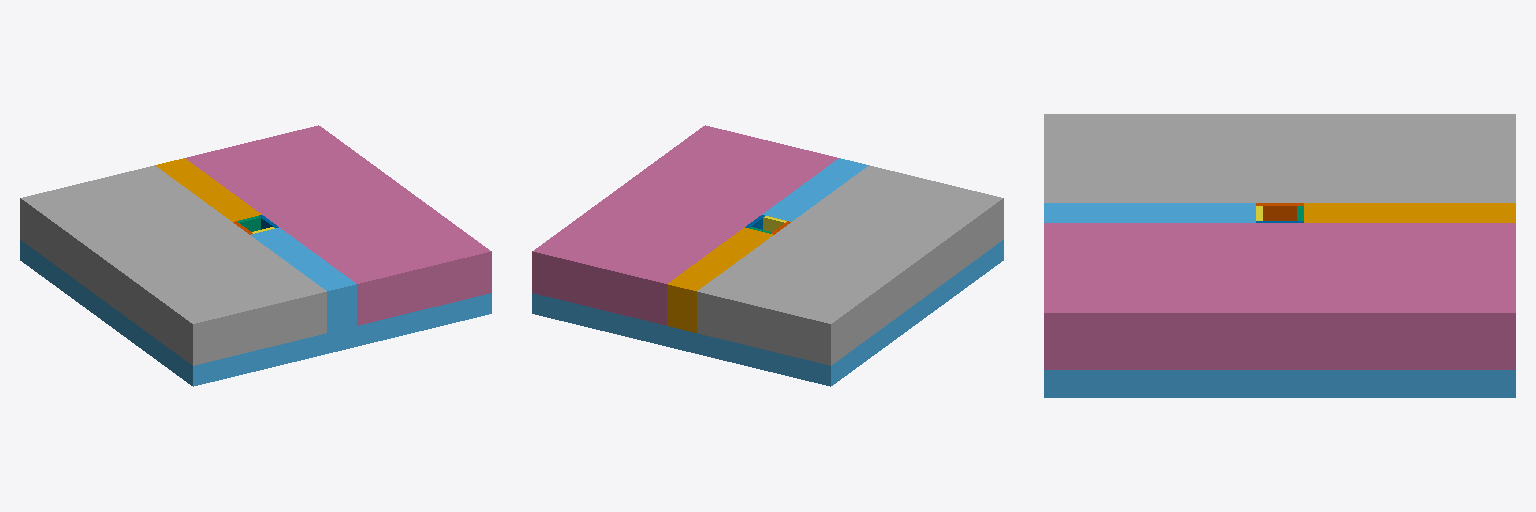
The robot description file, URDF, robot "cube_skeleton":
<?xml version="1.0"?>
<robot name="cube_skeleton">
    <link name="world"/>
    <link name="base_link">
        <inertial>
            <mass value="0.01" />
            <origin xyz="0.000 0 0" rpy="0 0 0" />
            <inertia ixx="1.0" ixy="0" ixz="0" iyy="1.0" iyz="0" izz="1.0" />
        </inertial>
        <visual>
            <origin xyz="0 0 0" rpy="0 0 0" />
            <geometry>
                <mesh filename="./base.obj"/>
            </geometry>
        </visual>
        <collision group="default">
            <origin xyz="0.00 0 0" rpy="0 -0 0" />
            <geometry>
                <mesh filename="./base.obj"/>
            </geometry>
        </collision>
    </link>
    <joint name="base_joint" type="fixed">
        <origin xyz="0 0.0 0.0" rpy="0 0 0" />
        <parent link="world" />
        <child link="base_link" />
    </joint>
    <link name="left">
        <inertial>
            <mass value="0.01" />
            <origin xyz="0.000 0 0" rpy="0 0 0" />
            <inertia ixx="1.0" ixy="0" ixz="0" iyy="1.0" iyz="0" izz="1.0" />
        </inertial>
        <visual>
            <origin xyz="0 0 0" rpy="0 0 0" />
            <geometry>
                <mesh filename="./cube.obj"/>
            </geometry>
        </visual>
        <collision group="default">
            <origin xyz="0.00 0 0" rpy="0 -0 0" />
            <geometry>
                <mesh filename="./cube.obj"/>
            </geometry>
        </collision>
    </link>
    <joint name="left_joint" type="fixed">
        <origin xyz="0 0.013 0.03" rpy="0 0 0" />
        <parent link="base_link" />
        <child link="left" />
    </joint>
    <link name="right">
        <inertial>
            <mass value="0.01" />
            <origin xyz="0.000 0 0" rpy="0 0 0" />
            <inertia ixx="1.0" ixy="0" ixz="0" iyy="1.0" iyz="0" izz="1.0" />
        </inertial>
        <visual>
            <origin xyz="0 0 0" rpy="0 0 0" />
            <geometry>
                <mesh filename="./cube.obj"/>
            </geometry>
        </visual>
        <collision group="default">
            <origin xyz="0.00 0 0" rpy="0 -0 0" />
            <geometry>
                <mesh filename="./cube.obj"/>
            </geometry>
        </collision>
    </link>
    <joint name="right_joint" type="fixed">
        <origin xyz="0 -0.013 0.03" rpy="0 0 0" />
        <parent link="base_link" />
        <child link="right" />
    </joint>
    <link name="up">
        <inertial>
            <mass value="0.01" />
            <origin xyz="0.000 0 0" rpy="0 0 0" />
            <inertia ixx="1.0" ixy="0" ixz="0" iyy="1.0" iyz="0" izz="1.0" />
        </inertial>
        <visual>
            <origin xyz="0 0 0" rpy="0 0 0" />
            <geometry>
                <mesh filename="./cube1.obj"/>
            </geometry>
        </visual>
        <collision group="default">
            <origin xyz="0.00 0 0" rpy="0 -0 0" />
            <geometry>
                <mesh filename="./cube1.obj"/>
            </geometry>
        </collision>
    </link>
    <joint name="up_joint" type="fixed">
        <origin xyz="0.013 0.0 0.03" rpy="0 0 0" />
        <parent link="base_link" />
        <child link="up" />
    </joint>
    <link name="down">
        <inertial>
            <mass value="0.01" />
            <origin xyz="0.000 0 0" rpy="0 0 0" />
            <inertia ixx="1.0" ixy="0" ixz="0" iyy="1.0" iyz="0" izz="1.0" />
        </inertial>
        <visual>
            <origin xyz="0 0 0" rpy="0 0 0" />
            <geometry>
                <mesh filename="./cube1.obj"/>
            </geometry>
        </visual>
        <collision group="default">
            <origin xyz="0.00 0 0" rpy="0 -0 0" />
            <geometry>
                <mesh filename="./cube1.obj"/>
            </geometry>
        </collision>
    </link>
    <joint name="down_joint" type="fixed">
        <origin xyz="-0.013 0.0 0.03" rpy="0 0 0" />
        <parent link="base_link" />
        <child link="down" />
    </joint>
     <link name="base_up">
        <inertial>
            <mass value="0.01" />
            <origin xyz="0.000 0 0" rpy="0 0 0" />
            <inertia ixx="1.0" ixy="0" ixz="0" iyy="1.0" iyz="0" izz="1.0" />
        </inertial>
        <visual>
            <origin xyz="0 0 0" rpy="0 0 0" />
            <geometry>
                <mesh filename="./cube2.obj"/>
            </geometry>
        </visual>
        <collision group="default">
            <origin xyz="0.00 0 0" rpy="0 -0 0" />
            <geometry>
                <mesh filename="./cube2.obj"/>
            </geometry>
        </collision>
    </link>
    <joint name="base_up_joint" type="fixed">
        <origin xyz="0.0825 0.0 0.03" rpy="0 0 0" />
        <parent link="base_link" />
        <child link="base_up" />
    </joint>
    <link name="base_down">
        <inertial>
            <mass value="0.01" />
            <origin xyz="0.000 0 0" rpy="0 0 0" />
            <inertia ixx="1.0" ixy="0" ixz="0" iyy="1.0" iyz="0" izz="1.0" />
        </inertial>
        <visual>
            <origin xyz="0 0 0" rpy="0 0 0" />
            <geometry>
                <mesh filename="./cube2.obj"/>
            </geometry>
        </visual>
        <collision group="default">
            <origin xyz="0.00 0 0" rpy="0 -0 0" />
            <geometry>
                <mesh filename="./cube2.obj"/>
            </geometry>
        </collision>
    </link>
    <joint name="base_down_joint" type="fixed">
        <origin xyz="-0.0825 0.0 0.03" rpy="0 0 0" />
        <parent link="base_link" />
        <child link="base_down" />
    </joint>
    <link name="base_left">
        <inertial>
            <mass value="0.01" />
            <origin xyz="0.000 0 0" rpy="0 0 0" />
            <inertia ixx="1.0" ixy="0" ixz="0" iyy="1.0" iyz="0" izz="1.0" />
        </inertial>
        <visual>
            <origin xyz="0 0 0" rpy="0 0 0" />
            <geometry>
                <mesh filename="./cube3.obj"/>
            </geometry>
        </visual>
        <collision group="default">
            <origin xyz="0.00 0 0" rpy="0 -0 0" />
            <geometry>
                <mesh filename="./cube3.obj"/>
            </geometry>
        </collision>
    </link>
    <joint name="base_left_joint" type="fixed">
        <origin xyz="0 0.0825 0.03" rpy="0 0 0" />
        <parent link="base_link" />
        <child link="base_left" />
    </joint>
    <link name="base_right">
        <inertial>
            <mass value="0.01" />
            <origin xyz="0.000 0 0" rpy="0 0 0" />
            <inertia ixx="1.0" ixy="0" ixz="0" iyy="1.0" iyz="0" izz="1.0" />
        </inertial>
        <visual>
            <origin xyz="0 0 0" rpy="0 0 0" />
            <geometry>
                <mesh filename="./cube3.obj"/>
            </geometry>
        </visual>
        <collision group="default">
            <origin xyz="0.00 0 0" rpy="0 -0 0" />
            <geometry>
                <mesh filename="./cube3.obj"/>
            </geometry>
        </collision>
    </link>
    <joint name="base_right_joint" type="fixed">
        <origin xyz="0 -0.0825 0.03" rpy="0 0 0" />
        <parent link="base_link" />
        <child link="base_right" />
    </joint>
</robot>

--- Facts derived from the render (not from the file) ---
Views: 3 orthographic renders of the robot side by side, from view 1: azimuth 30°, elevation 25°; view 2: azimuth 150°, elevation 25°; view 3: azimuth 270°, elevation 25°.
Robot: cube_skeleton — 10 links, 9 joints (9 fixed); root link world; default pose: all joints at 0.
Links seen in each view (by area): view 1: base_down, base_up, base_link, base_right, base_left; view 2: base_down, base_up, base_link, base_left, base_right; view 3: base_up, base_down, base_link, base_left, base_right, down.
Boxes of the visible links, x1,y1,x2,y2 form: base_down: [20, 165, 326, 365]; base_up: [185, 125, 491, 325]; base_link: [20, 240, 491, 386]; base_right: [251, 227, 356, 332]; base_left: [155, 158, 261, 221]; base_down: [697, 165, 1003, 365]; base_up: [532, 125, 838, 325]; base_link: [532, 240, 1003, 386]; base_left: [667, 227, 772, 332]; base_right: [762, 158, 868, 221]; base_up: [1044, 223, 1515, 369]; base_down: [1044, 114, 1515, 202]; base_link: [1044, 370, 1515, 397]; base_left: [1304, 203, 1515, 222]; base_right: [1044, 203, 1255, 222]; down: [1256, 203, 1303, 220].
Size in the robot's own frame: 0.3 by 0.3 by 0.06 metres.
Meshes: 5 distinct files referenced, 9 mesh visuals loaded (5 OBJ).
